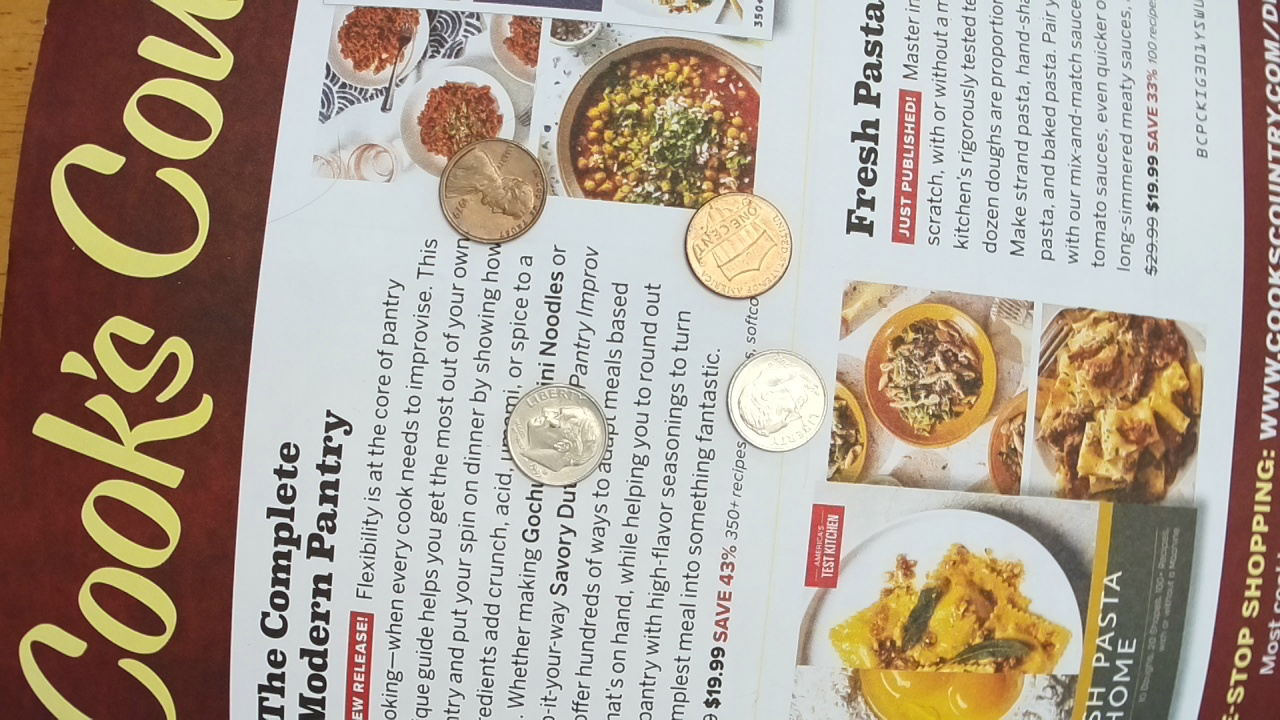dime: (724, 347, 830, 457), (506, 380, 606, 488)
penny: (682, 188, 796, 302), (436, 137, 550, 245)
